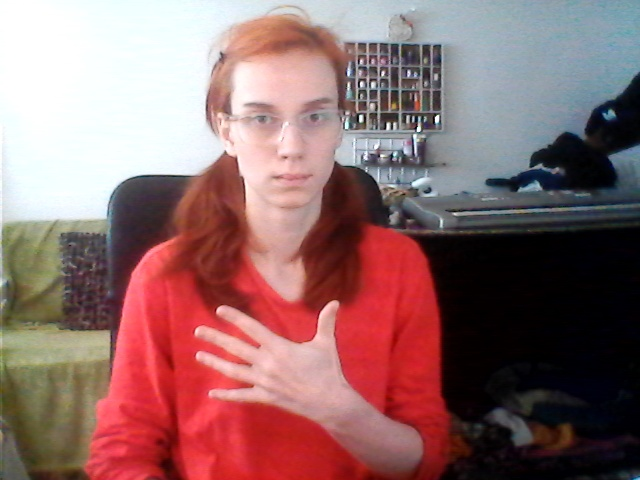pat: (185, 297, 354, 424)
